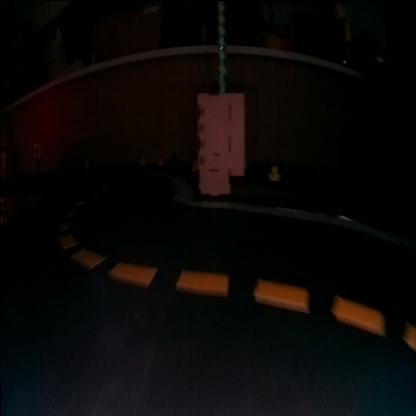Duckie: (266, 165, 278, 180), (191, 158, 196, 170), (157, 156, 162, 164), (139, 155, 144, 163)
